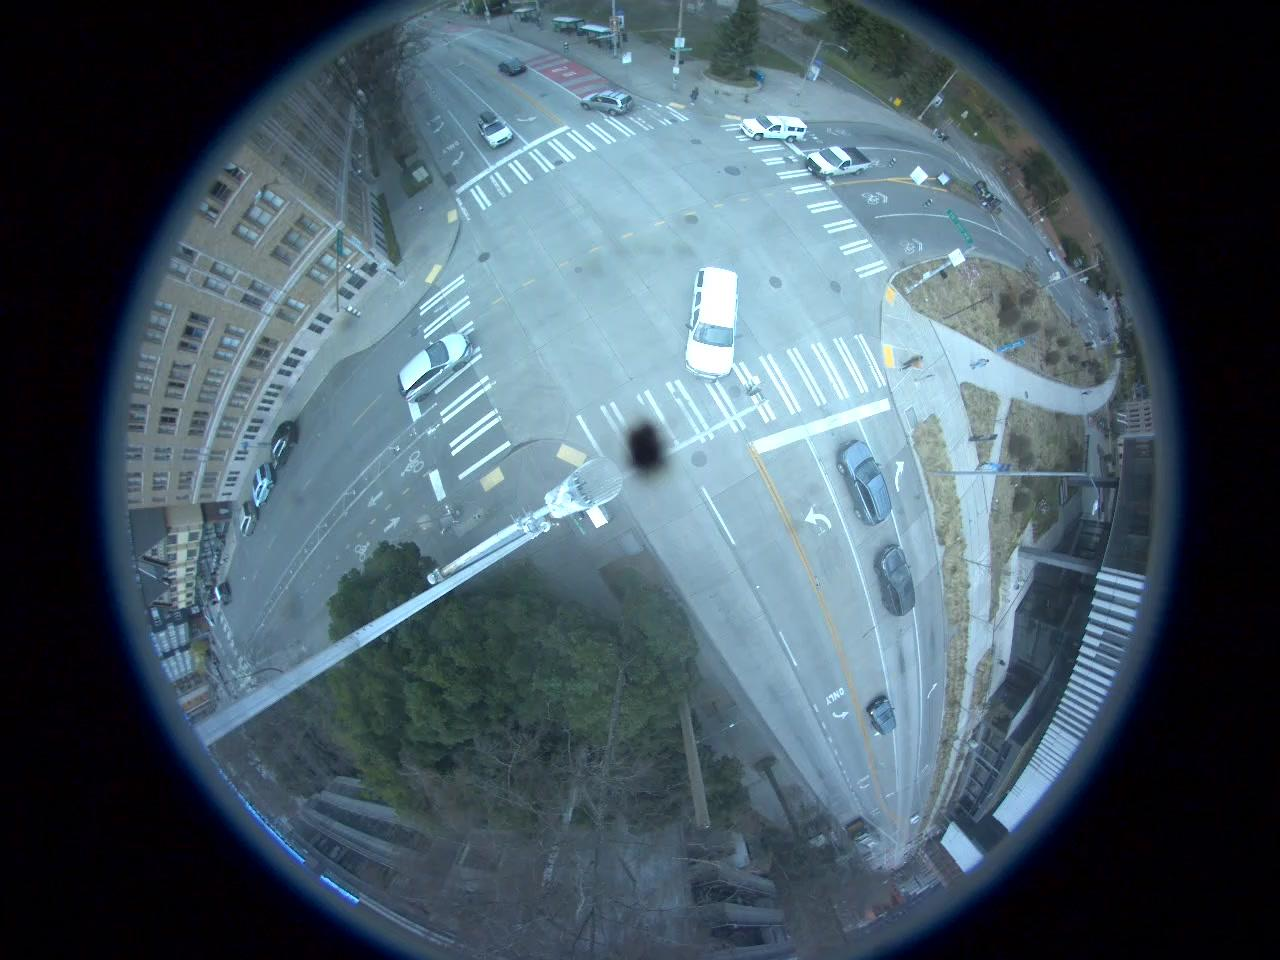car: (394, 332, 475, 404), (694, 264, 736, 380), (840, 444, 890, 527), (872, 545, 914, 618), (742, 109, 808, 147), (806, 146, 872, 182), (475, 109, 515, 151), (266, 420, 298, 470), (582, 88, 638, 114), (250, 465, 277, 504), (870, 696, 893, 736), (236, 502, 258, 540), (498, 55, 528, 75)
person: (902, 354, 926, 376), (966, 357, 994, 370), (689, 82, 702, 108)
